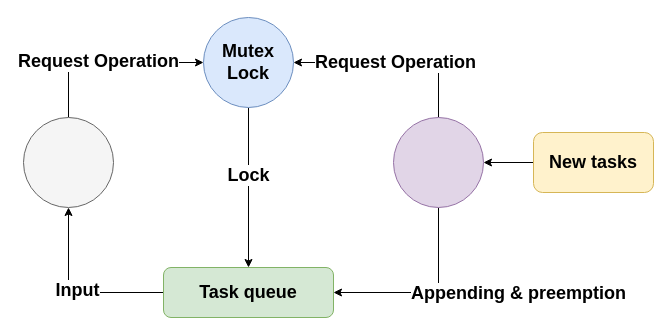
This 671x335 diagram has some shape labels left out. The shapes that lost their labels are listed below. From the top down, each one's centre as x and y in pixels, then its label:
At pixel 68 162: "Processor".
At pixel 438 162: "Scheduler".
